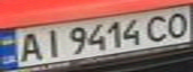1: (103, 17, 127, 48)
4: (121, 16, 148, 46), (84, 20, 109, 52)
9: (63, 24, 90, 55)
A: (12, 29, 45, 63)
C: (142, 11, 175, 43)
I: (36, 26, 66, 59)
O: (160, 9, 193, 38)
